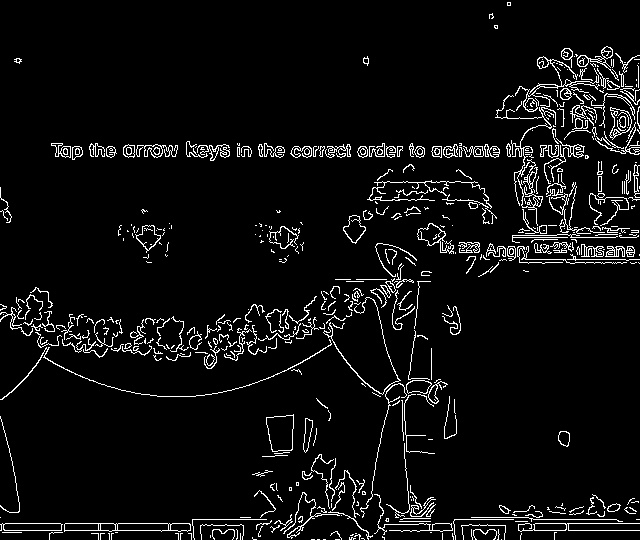down: (336, 210, 372, 251), (133, 219, 167, 258)
right: (262, 219, 303, 258), (413, 217, 451, 254)
